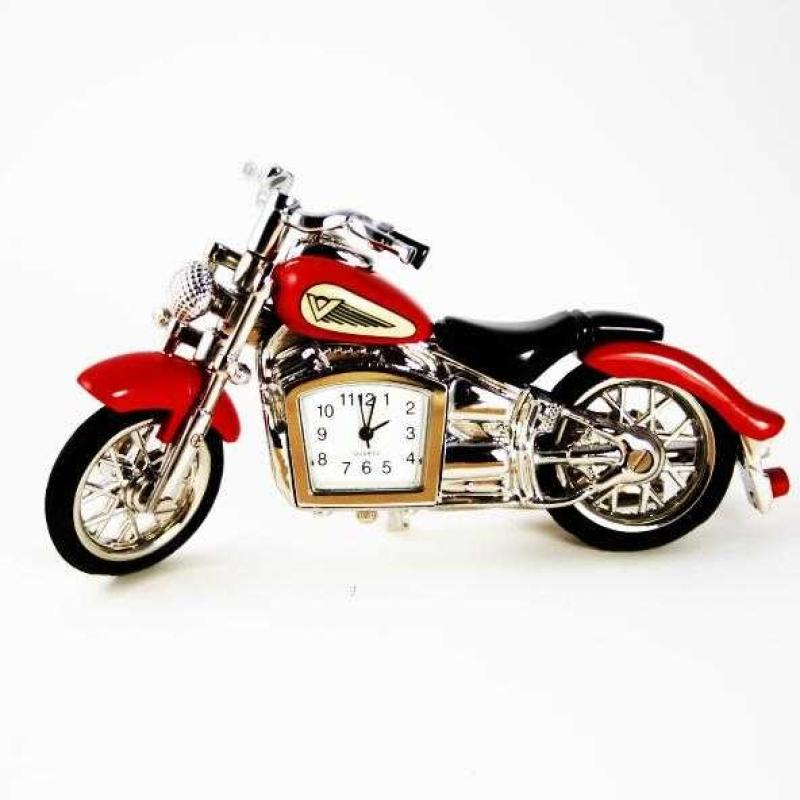bike: (74, 99, 798, 613)
